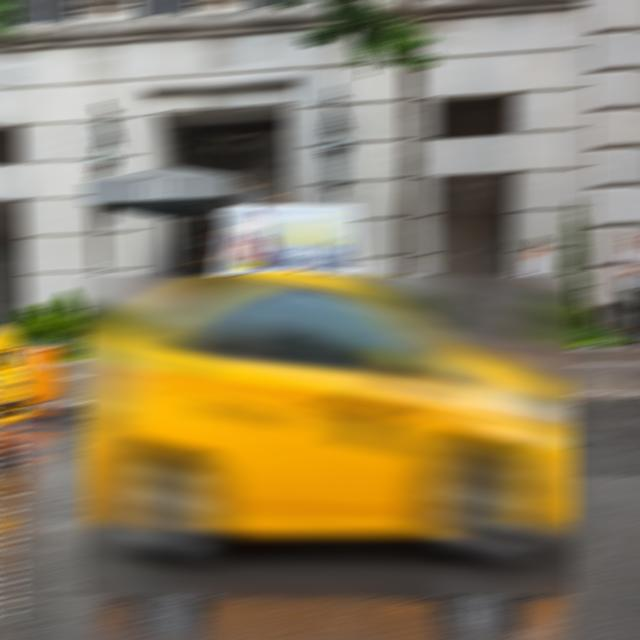Taxi: (81, 275, 576, 595)
